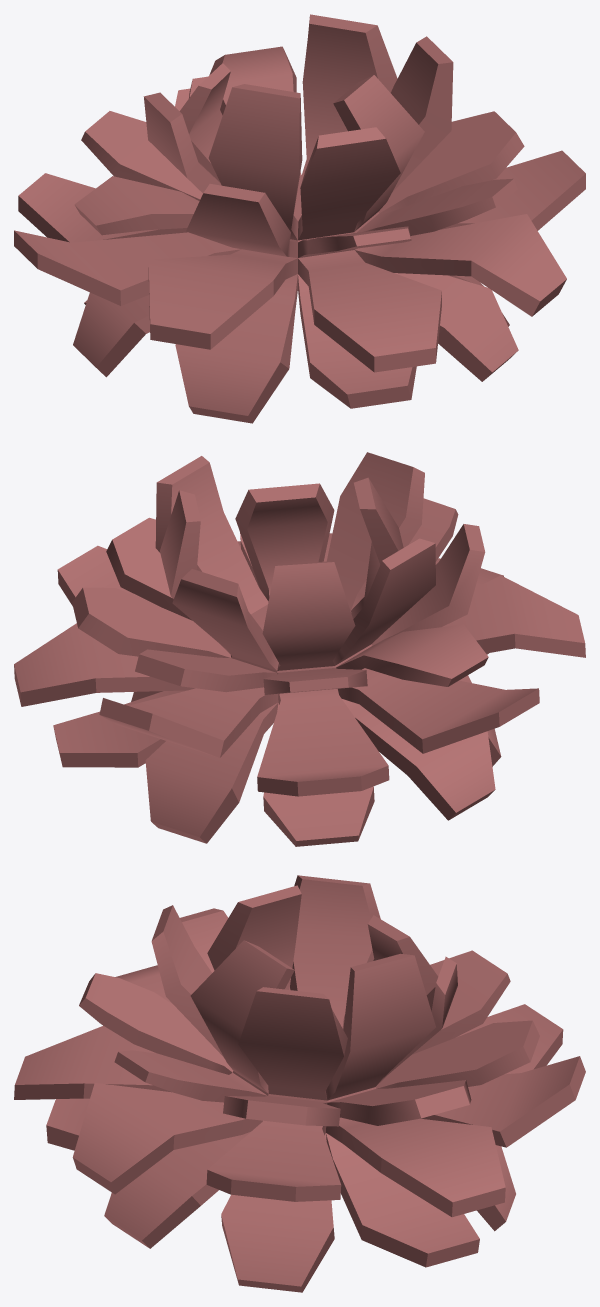
File: flower_only.fbx
The picture shows the model from 3 angles, top to bottom: view 1: azimuth 30°, elevation 25°; view 2: azimuth 150°, elevation 25°; view 3: azimuth 270°, elevation 25°; orthographic projection. The views are drawn at different scales.
Parts seen in each view (by area): view 1: flo1; view 2: flo1; view 3: flo1.
Part boxes in pixels (<box>): flo1: <box>14,14,585,423</box>; flo1: <box>14,452,585,846</box>; flo1: <box>14,875,585,1292</box>.
Size of the model in its own units: 10.05 by 5.47 by 9.8.
